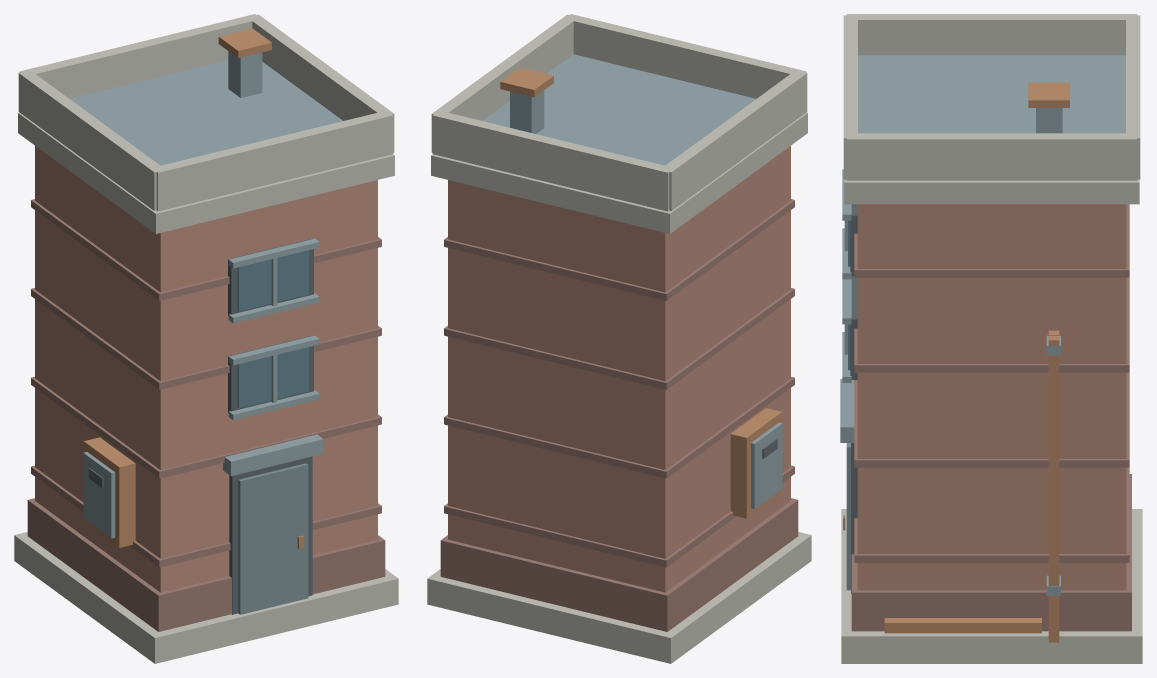
File: tower_hydraulic_2025.gltf
The picture shows the model from 3 angles, left to right: view 1: azimuth 30°, elevation 25°; view 2: azimuth 150°, elevation 25°; view 3: azimuth 270°, elevation 25°; orthographic projection. The views are drawn at different scales.
Visible parts, largest first — view 1: hydraulic_tower_2025; view 2: hydraulic_tower_2025; view 3: hydraulic_tower_2025.
Part boxes in pixels (bbox=[...]): hydraulic_tower_2025: bbox=[14, 14, 398, 663]; hydraulic_tower_2025: bbox=[427, 14, 811, 663]; hydraulic_tower_2025: bbox=[840, 14, 1142, 663].
Bounding box in the file's own units: 3.4 × 6.28 × 3.17.
